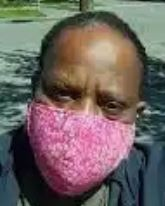with_facemask: (30, 110, 129, 194)
